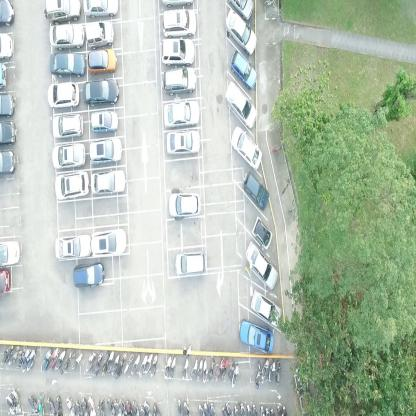car: (245, 240, 278, 292), (224, 80, 258, 128), (223, 10, 257, 56), (229, 125, 262, 172), (249, 287, 282, 329), (238, 318, 274, 355), (54, 169, 90, 201), (241, 170, 269, 211), (229, 50, 257, 91), (160, 36, 196, 66), (90, 228, 128, 256), (49, 143, 86, 171), (162, 101, 200, 128), (83, 80, 120, 107), (43, 0, 81, 26), (166, 128, 200, 157), (88, 138, 123, 166), (71, 262, 105, 290), (46, 82, 80, 110), (53, 234, 91, 259), (162, 68, 197, 95), (49, 24, 84, 51), (91, 169, 126, 196), (161, 8, 197, 34), (50, 53, 86, 79), (84, 19, 114, 50), (174, 251, 207, 278), (168, 192, 201, 219), (50, 114, 83, 140), (250, 216, 274, 250), (87, 49, 117, 76), (83, 0, 119, 21), (90, 110, 119, 134), (0, 239, 22, 265), (228, 0, 254, 20), (0, 31, 15, 63), (0, 119, 17, 147), (0, 149, 17, 175), (0, 0, 15, 29), (0, 92, 15, 118), (0, 267, 14, 293), (161, 0, 193, 9), (0, 63, 8, 90)
